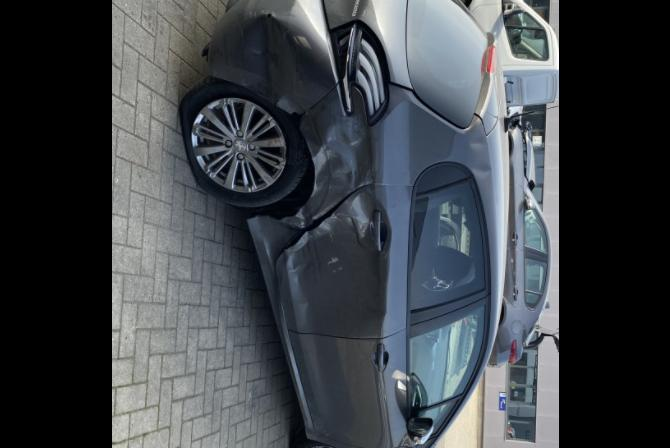Broken part: (261, 186, 412, 338), (247, 80, 375, 228), (329, 20, 389, 125)
Corrosion: (265, 138, 281, 147)
Dent: (284, 214, 388, 335), (281, 114, 375, 229), (242, 15, 298, 114), (246, 217, 279, 324), (351, 192, 385, 226), (471, 161, 491, 177), (470, 136, 486, 150), (275, 263, 282, 288), (493, 197, 497, 205)
Missing part: (283, 104, 328, 227), (266, 13, 271, 17)
Scratch: (344, 181, 373, 194), (310, 205, 330, 222), (320, 142, 331, 161), (326, 226, 334, 243), (358, 226, 366, 240), (326, 258, 338, 266), (329, 212, 339, 220), (349, 139, 361, 145), (240, 28, 244, 44), (251, 11, 256, 19), (337, 266, 342, 272), (332, 268, 336, 273), (248, 12, 251, 15)
